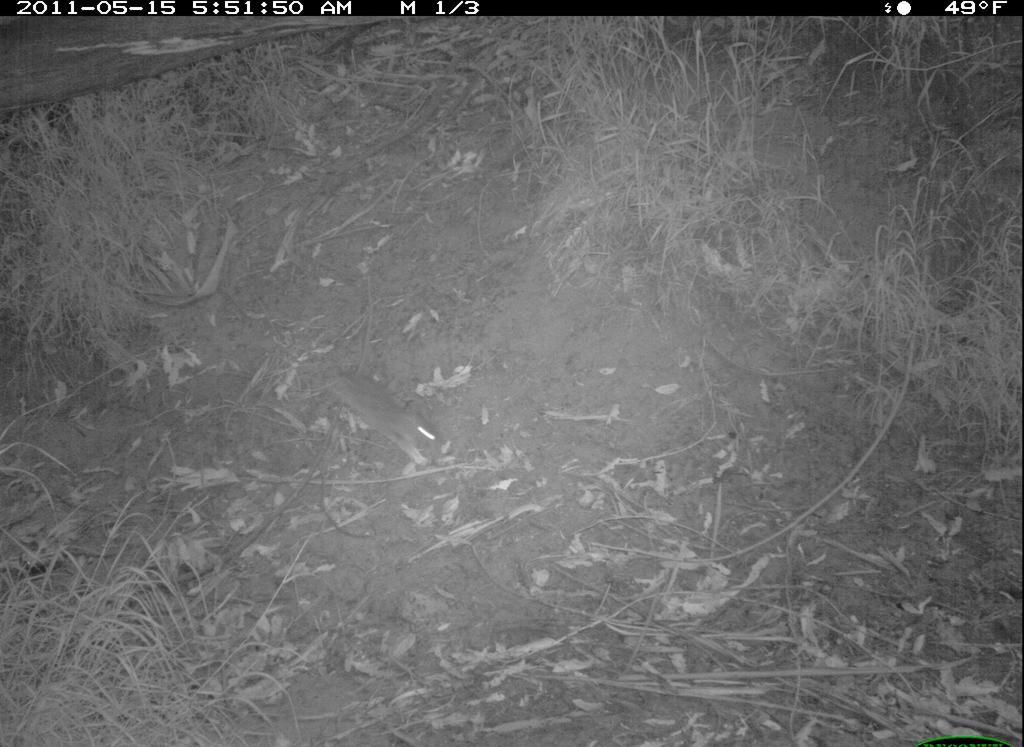rabbit: (292, 361, 463, 483)
